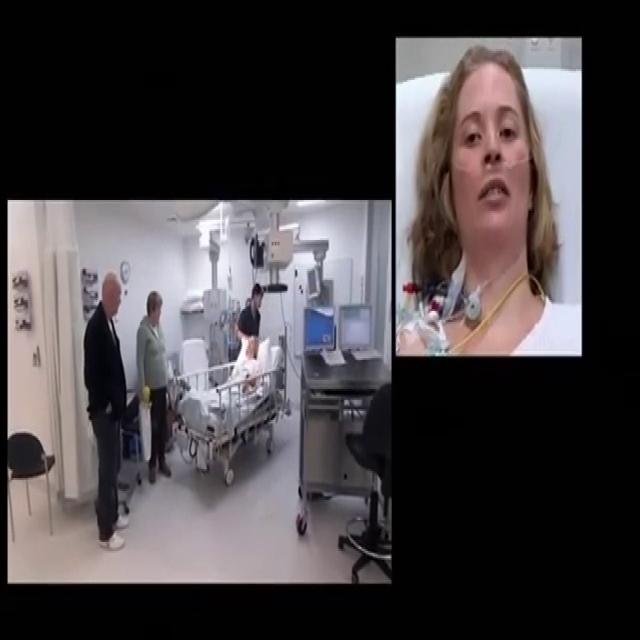monitor: (338, 302, 372, 351), (303, 304, 334, 352), (306, 264, 321, 298)
nurse: (223, 272, 279, 324)
others: (136, 292, 196, 524), (82, 269, 130, 549)
patient: (395, 43, 580, 354), (229, 330, 273, 390)
